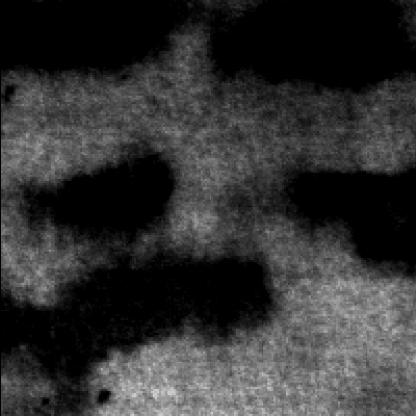patches: (0, 260, 264, 398), (208, 2, 414, 92), (16, 154, 168, 250), (281, 169, 414, 274), (0, 2, 170, 79)
